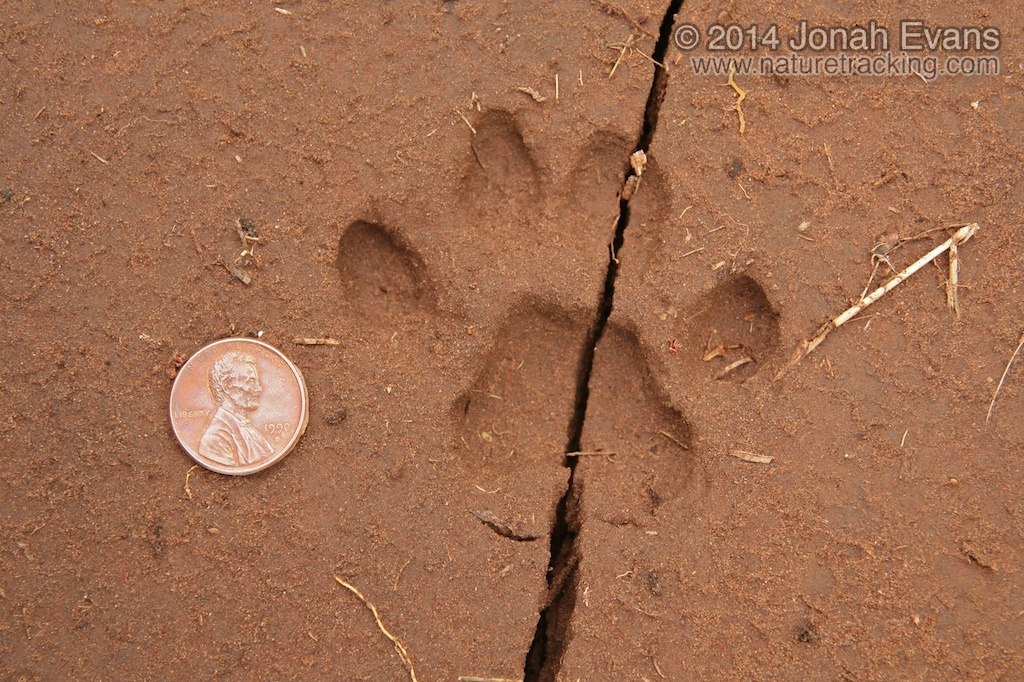lynx: (301, 93, 807, 565)
